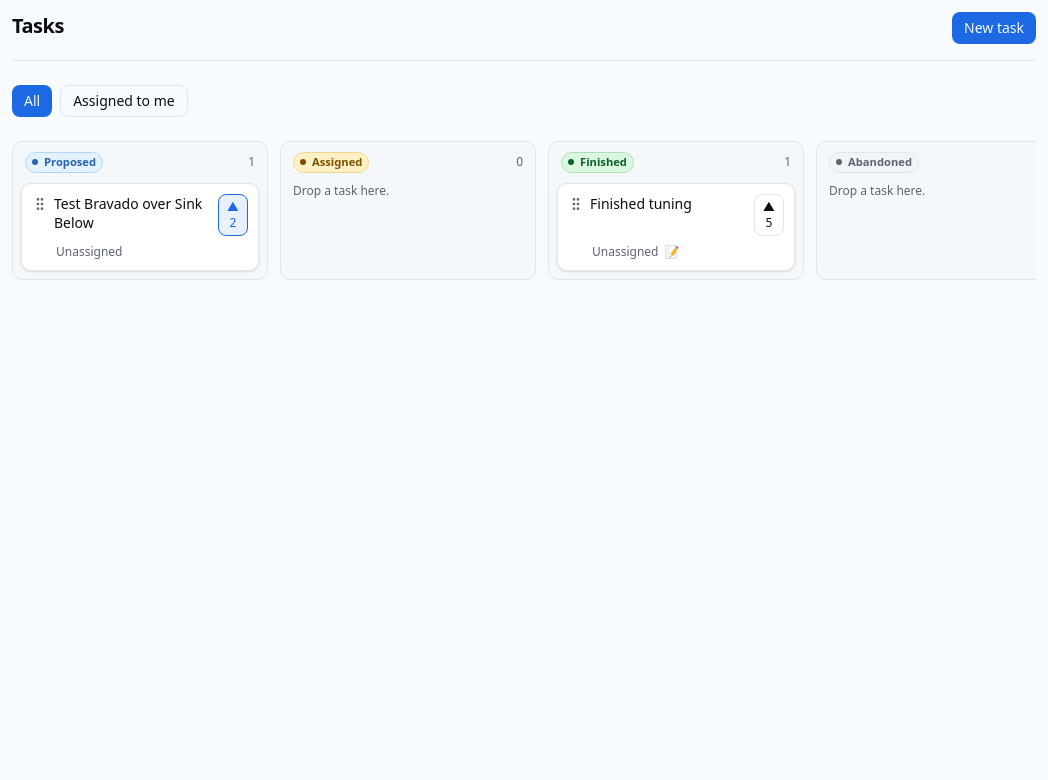
TasksPage › reveals the task form when creating
Expected: the text "Test Bravado over Sink Below" is shown, [54,194,212,232]
Click the button "New task" at coordinates (994, 28), box [952,12,1036,44]
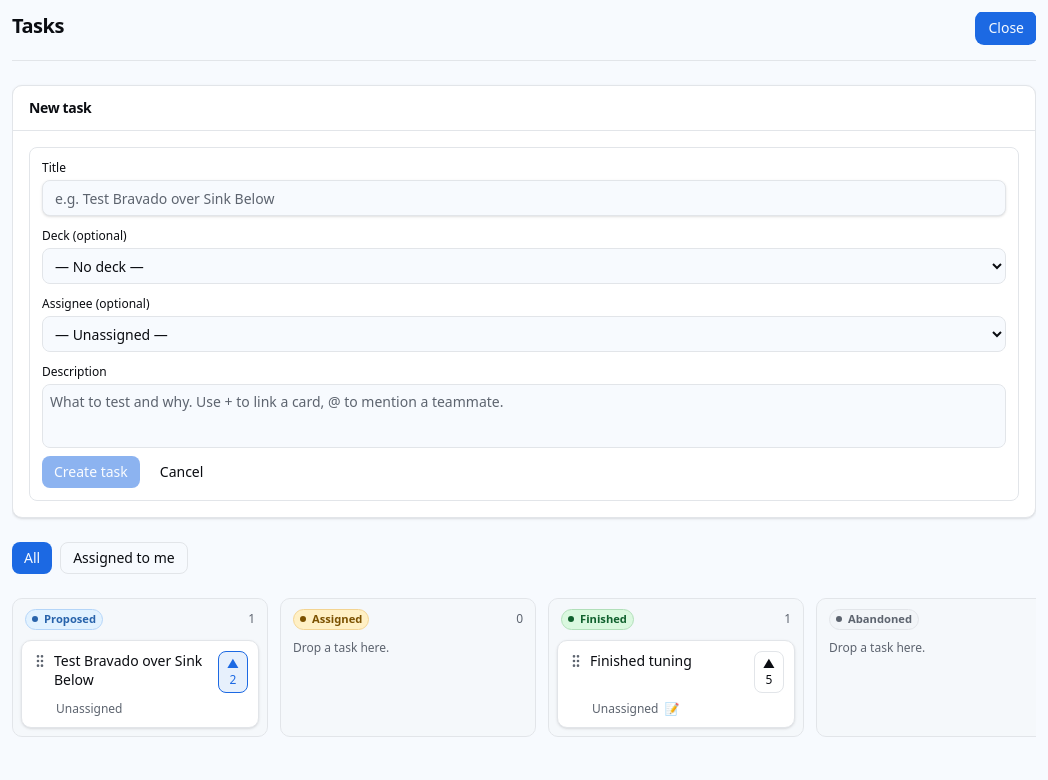
Result: the field named "Task title" is shown at [42,180,1006,216]
Result: the field named "Task description" is shown at [42,384,1006,448]
